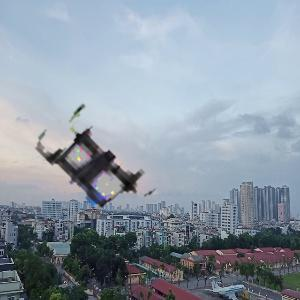drone: (33, 100, 168, 235)
